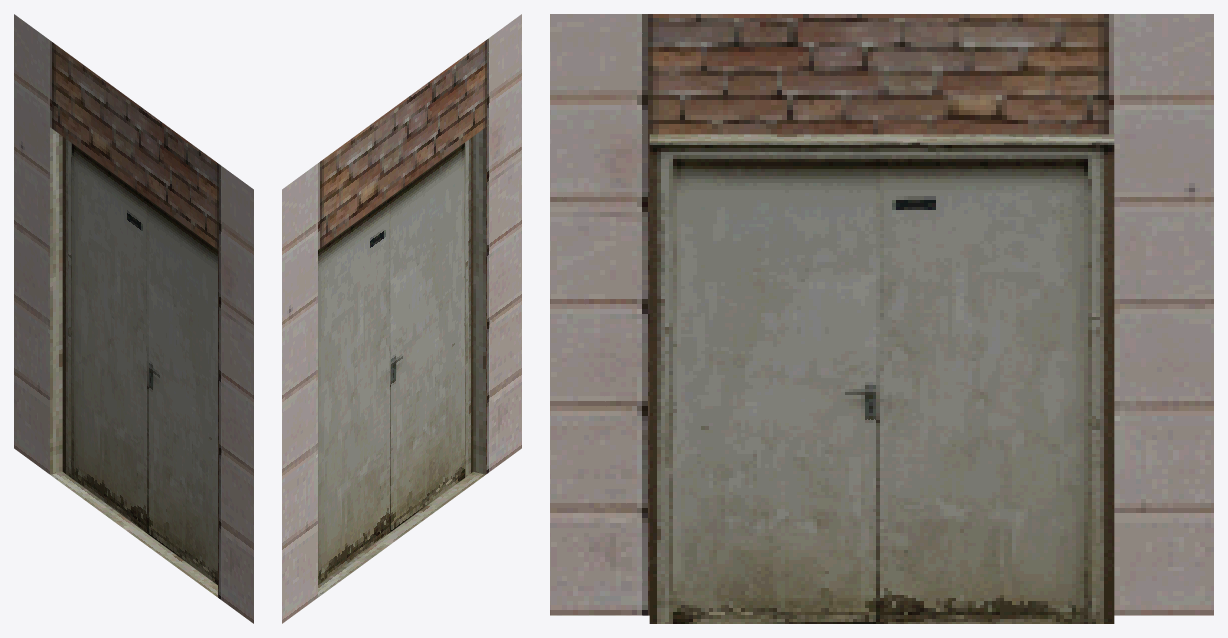
The model's file is fancy_brick_wall_old_door_indent.glb.
The picture shows the model from 3 angles, left to right: view 1: azimuth 30°, elevation 25°; view 2: azimuth 150°, elevation 25°; view 3: azimuth 270°, elevation 25°; orthographic projection. The views are drawn at different scales.
Parts seen in each view (by area): view 1: fancy_brick_wall_old_door_indent; view 2: fancy_brick_wall_old_door_indent; view 3: fancy_brick_wall_old_door_indent.
Part boxes in pixels (box(x1,y1,x2,y2)): fancy_brick_wall_old_door_indent: box(14, 14, 253, 623); fancy_brick_wall_old_door_indent: box(282, 14, 521, 623); fancy_brick_wall_old_door_indent: box(550, 14, 1213, 623).
Size of the model in its own units: 0.0907 by 3 by 3.
Materials: 1 (1 with a texture image).
